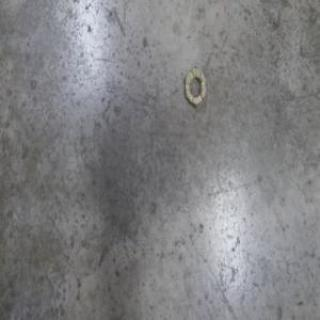Nuttrack_idkeyframe: (183, 64, 205, 108)
